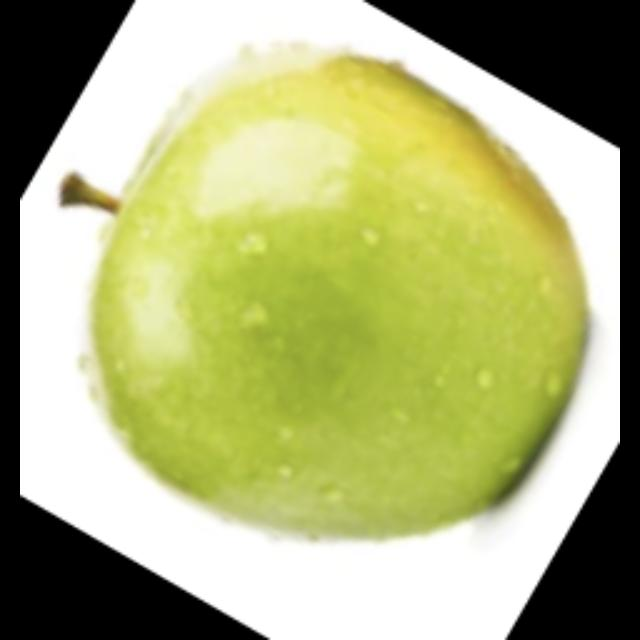Apel Segar: (88, 40, 592, 545)
